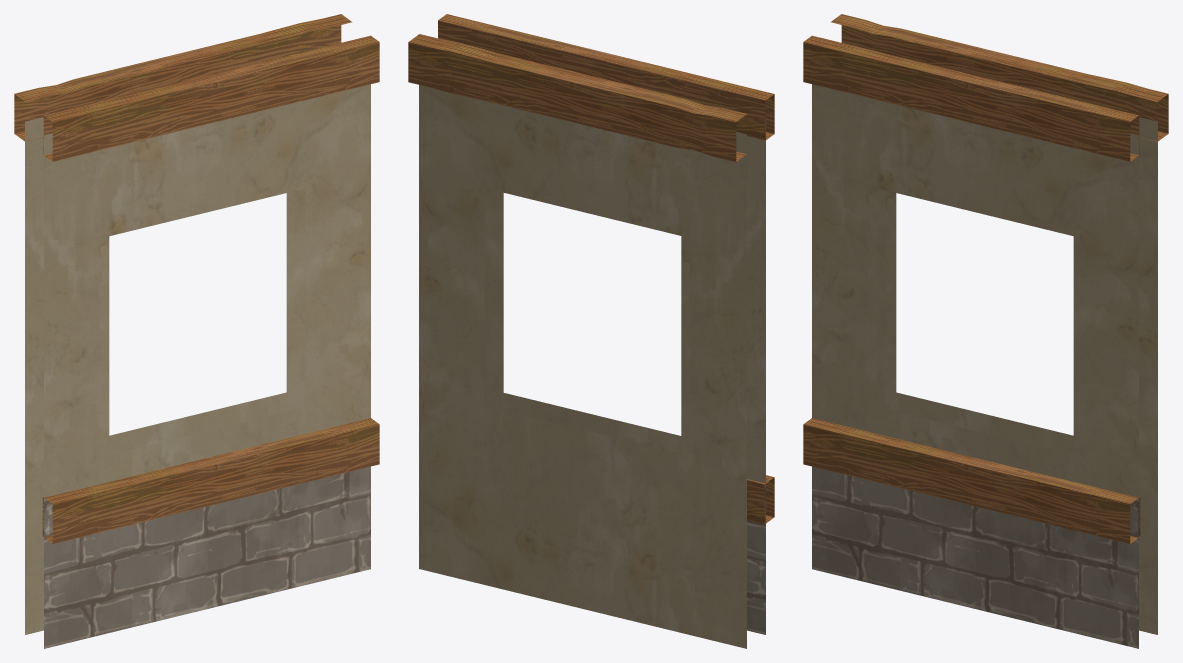
The model's file is Wall_Plaster_Window_Wide_Flat.glb.
The picture shows the model from 3 angles, left to right: view 1: azimuth 30°, elevation 25°; view 2: azimuth 150°, elevation 25°; view 3: azimuth 330°, elevation 25°; orthographic projection.
Visible parts, largest first — view 1: Wall_Plaster_Window_Wide_Flat; view 2: Wall_Plaster_Window_Wide_Flat; view 3: Wall_Plaster_Window_Wide_Flat.
Part boxes in pixels (left/top/right/bottom): Wall_Plaster_Window_Wide_Flat: left=14, top=14, right=379, bottom=648; Wall_Plaster_Window_Wide_Flat: left=408, top=14, right=774, bottom=648; Wall_Plaster_Window_Wide_Flat: left=803, top=14, right=1168, bottom=648.
Size of the model in its own units: 2 by 3.12 by 0.4065.
3 materials, 3 textured.
